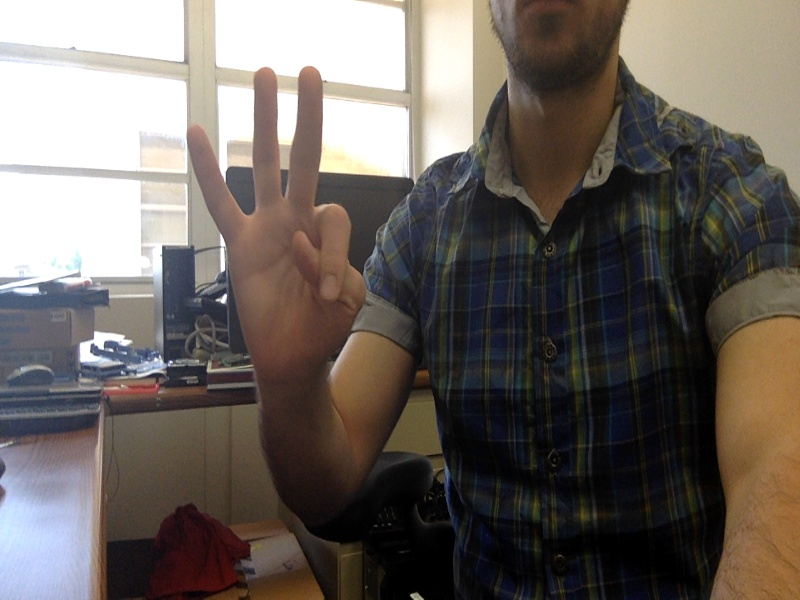3-hand: (189, 65, 367, 371)
